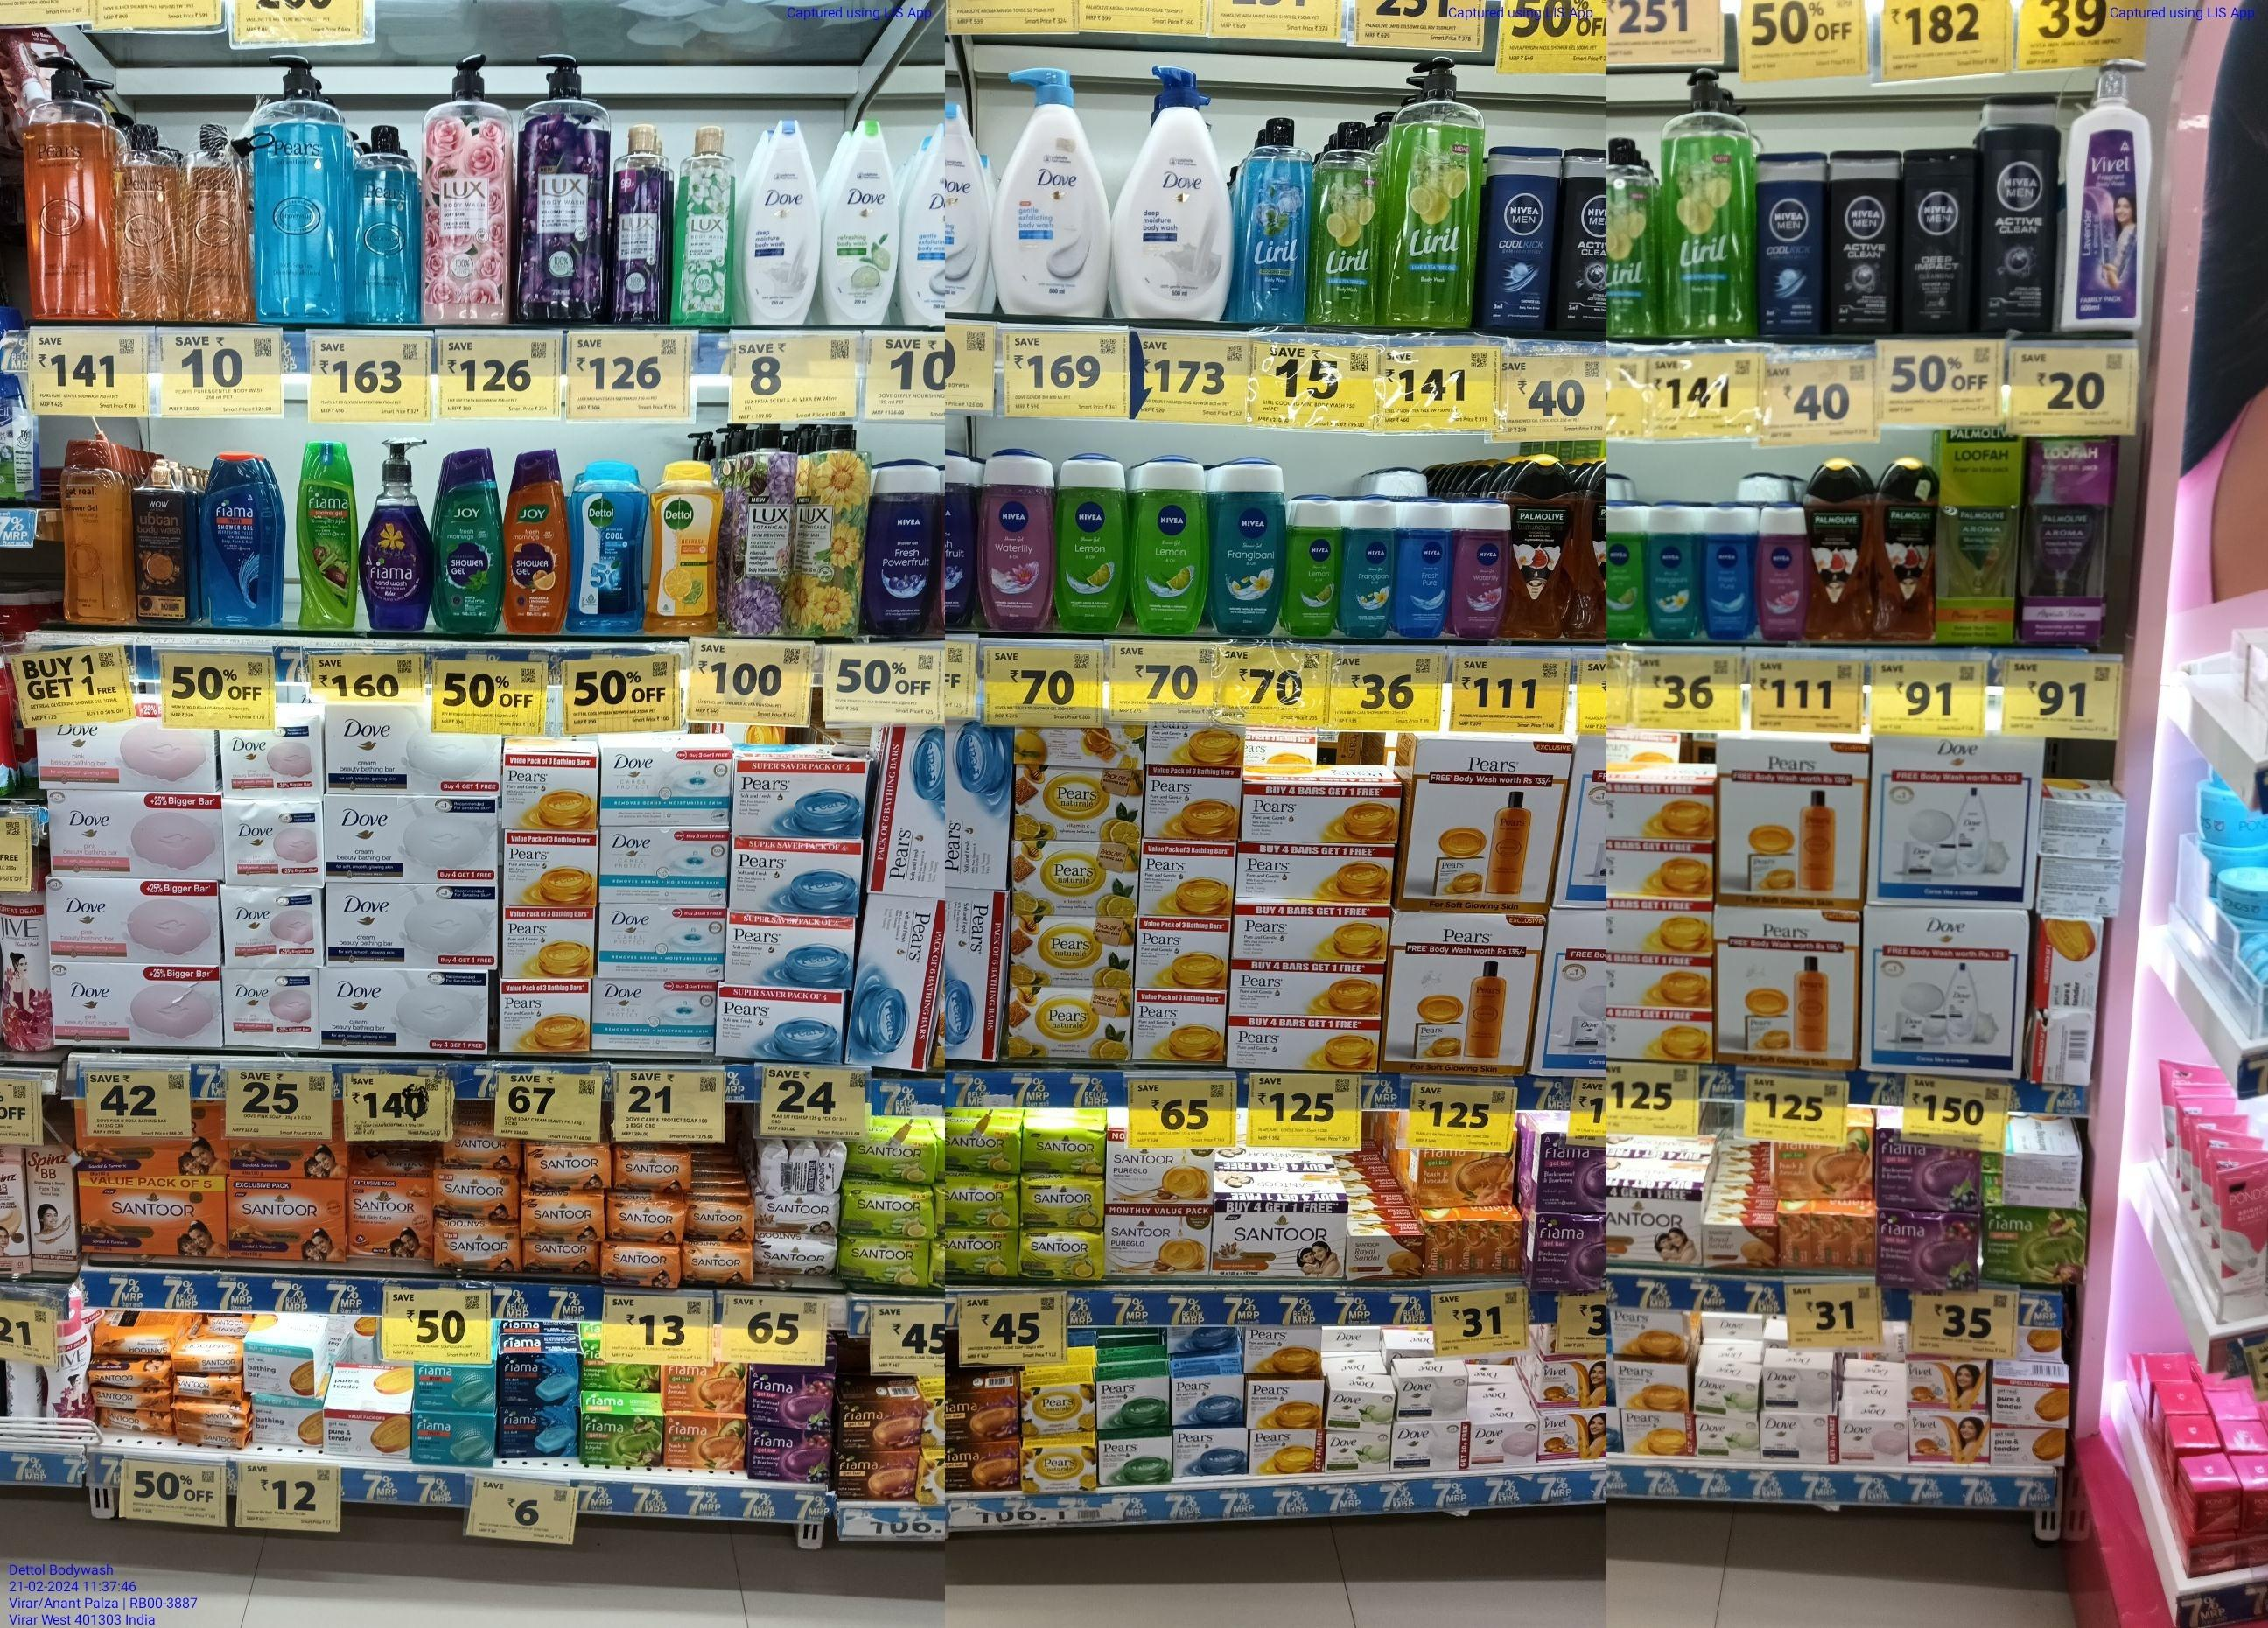Dettol_Bodywash_Cool: (569, 461, 648, 634)
Dettol_Bodywash_Refresh: (650, 461, 724, 635)
Dove_Deep_Moisture_Body_Wash_250ML: (741, 118, 821, 324)
Dove_Refreshing_Body_Wash_250ML: (821, 118, 900, 324)
Get_Real_Shower_Gel_Moisturising_Glycerin_300ML: (58, 436, 129, 625)
Joy_Shower_Gel_Mandarin_and_Lemongrass_250ML: (504, 447, 569, 634)
Joy_Shower_Gel_Mint_and_Eucalyptus_250ML: (433, 447, 504, 635)
Liril_Cooling_Mint_Body_Wash_250ML: (1236, 114, 1314, 322)
Liril_Lime_and_Tea_Tree_Oil_Body_Wash_250ML: (1314, 114, 1384, 326)
Lux_Black_Orchid_Scent_and_Juniper_Oil_Body_Wash_245ML: (609, 123, 671, 324)
Lux_Body_Wash_Skin_Detox_Freesia_Scent_and_Alove_Vera_245ML: (674, 123, 738, 326)
Nivea_Shower_Gel_Frangipani_and_Oil_250ML: (1208, 452, 1287, 637)
Nivea_Shower_Gel_Fresh_Powerfruit_250ML: (866, 456, 939, 634)
Nivea_Shower_Gel_Lemon_and_Oil_250ML: (1129, 454, 1210, 635), (1053, 445, 1129, 632)
Nivea_Shower_Gel_Waterlily_and_Oil_250ML: (977, 447, 1055, 628)
Palmolive_Luminous_Oils_With_White_Orchid_Shower_Gel_250ML: (1511, 452, 1574, 637)
Pears_Pure_Glycerin_and_Mint_Extracts_Body_Wash_250ML: (349, 121, 421, 326)
